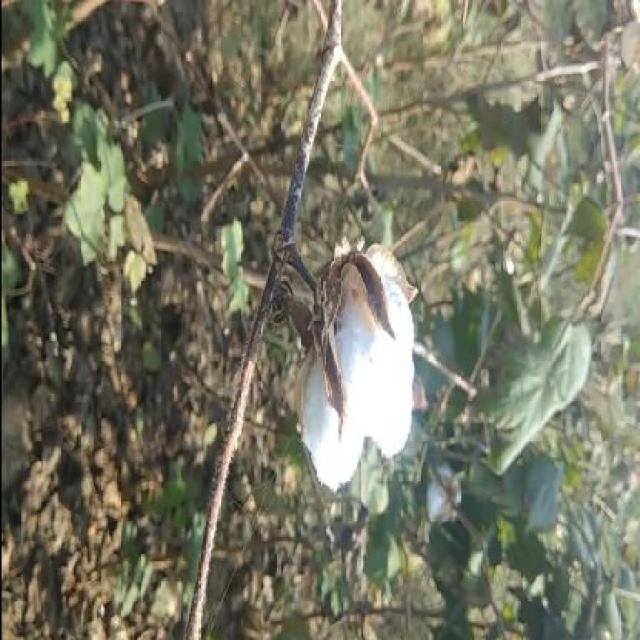cotton_ready: (236, 202, 418, 503)
